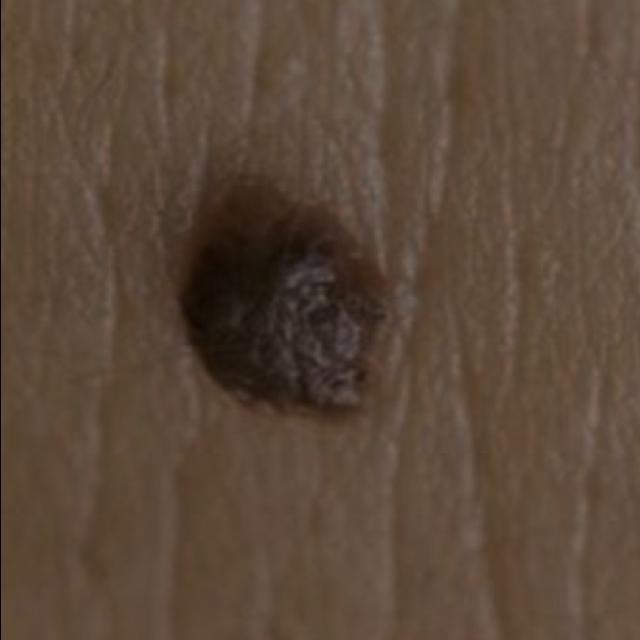wart: (140, 152, 427, 474)
